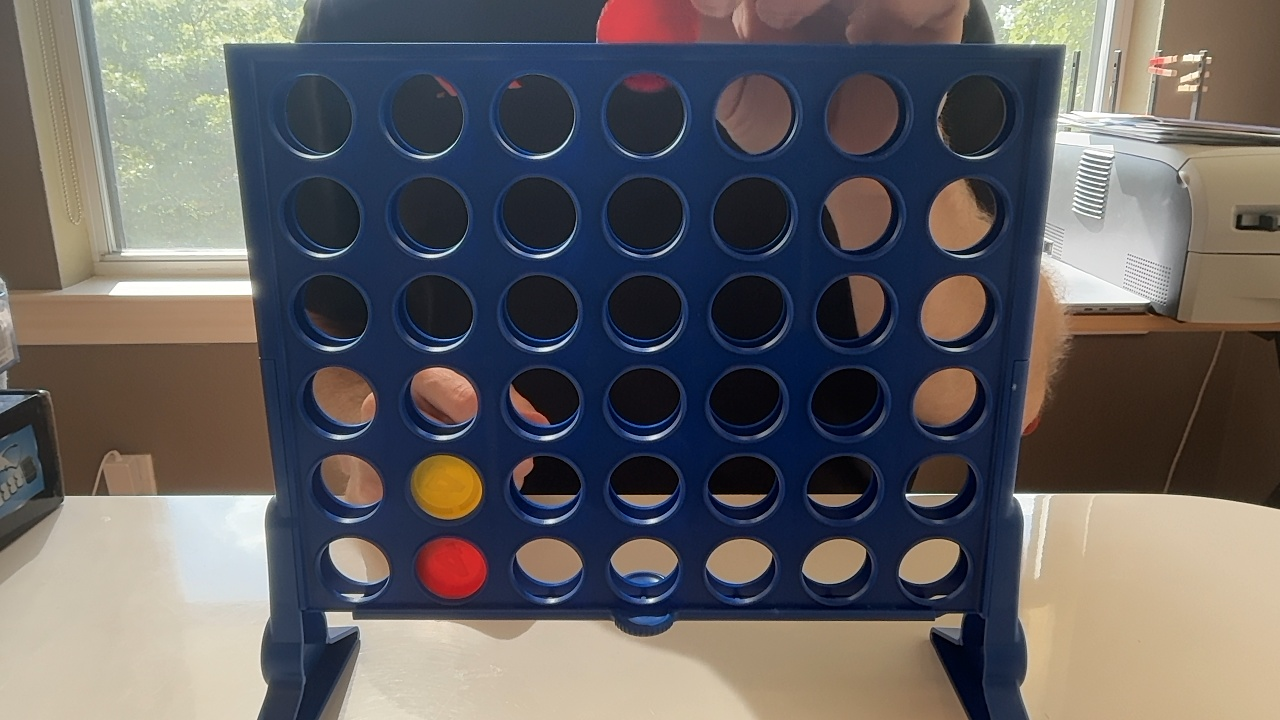red piece: (416, 537, 487, 599)
yellow piece: (411, 455, 482, 519)
